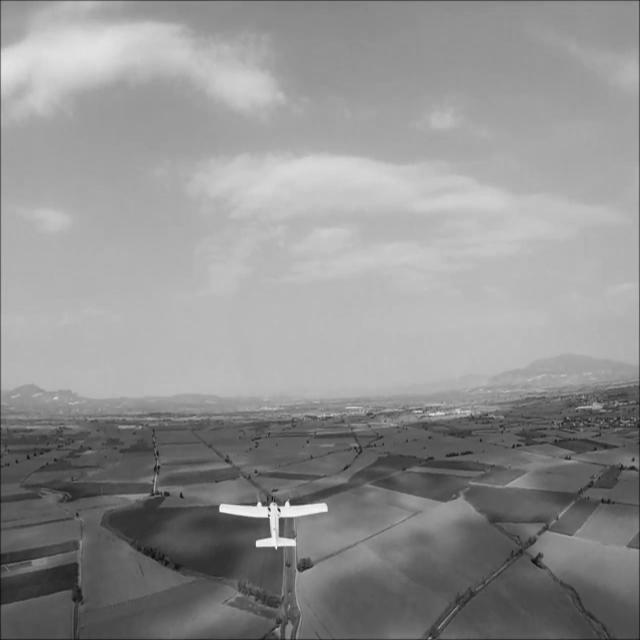iha: (246, 506, 303, 524)
